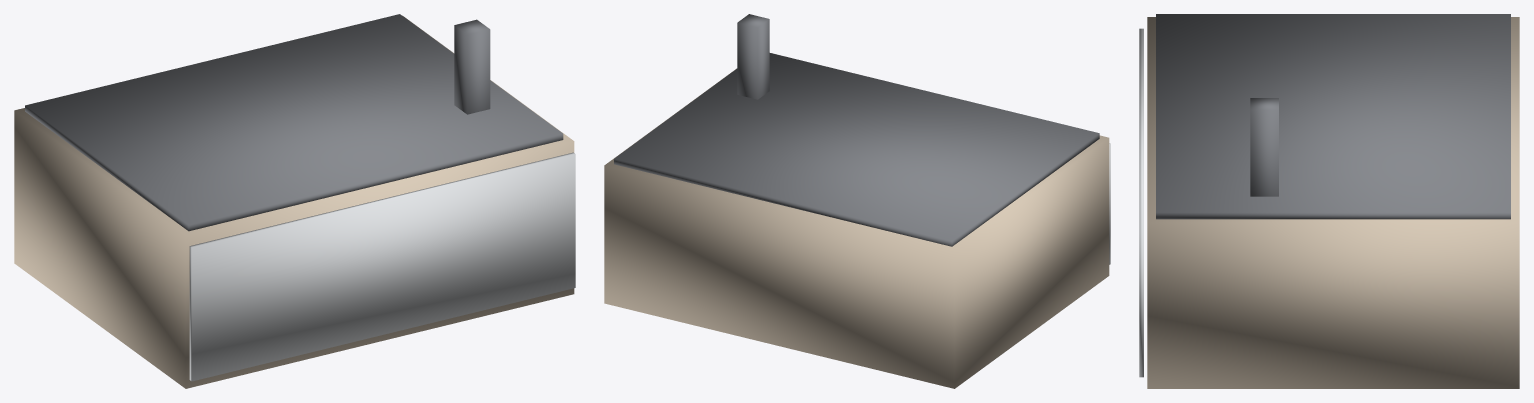
File: ind-plant.glb
The picture shows the model from 3 angles, left to right: view 1: azimuth 30°, elevation 25°; view 2: azimuth 150°, elevation 25°; view 3: azimuth 270°, elevation 25°; orthographic projection. The views are drawn at different scales.
Visible parts, largest first — view 1: CC_IndPlant_Roof, CC_IndPlant_Ribs, CC_IndPlant_Body, CC_IndPlant_Stack; view 2: CC_IndPlant_Body, CC_IndPlant_Roof, CC_IndPlant_Stack; view 3: CC_IndPlant_Roof, CC_IndPlant_Body, CC_IndPlant_Stack, CC_IndPlant_Ribs.
Boxes of the visible parts, x1,y1,x2,y2 form: CC_IndPlant_Roof: (25,14,563,231); CC_IndPlant_Ribs: (189,152,575,381); CC_IndPlant_Body: (14,15,574,388); CC_IndPlant_Stack: (454,19,490,114); CC_IndPlant_Body: (604,68,1109,388); CC_IndPlant_Roof: (614,53,1099,246); CC_IndPlant_Stack: (737,14,769,99); CC_IndPlant_Roof: (1156,14,1510,219); CC_IndPlant_Body: (1147,17,1519,388); CC_IndPlant_Stack: (1250,98,1278,196); CC_IndPlant_Ribs: (1139,28,1143,377).
Size of the model in its own units: 8.5 by 5.1 by 6.64.
